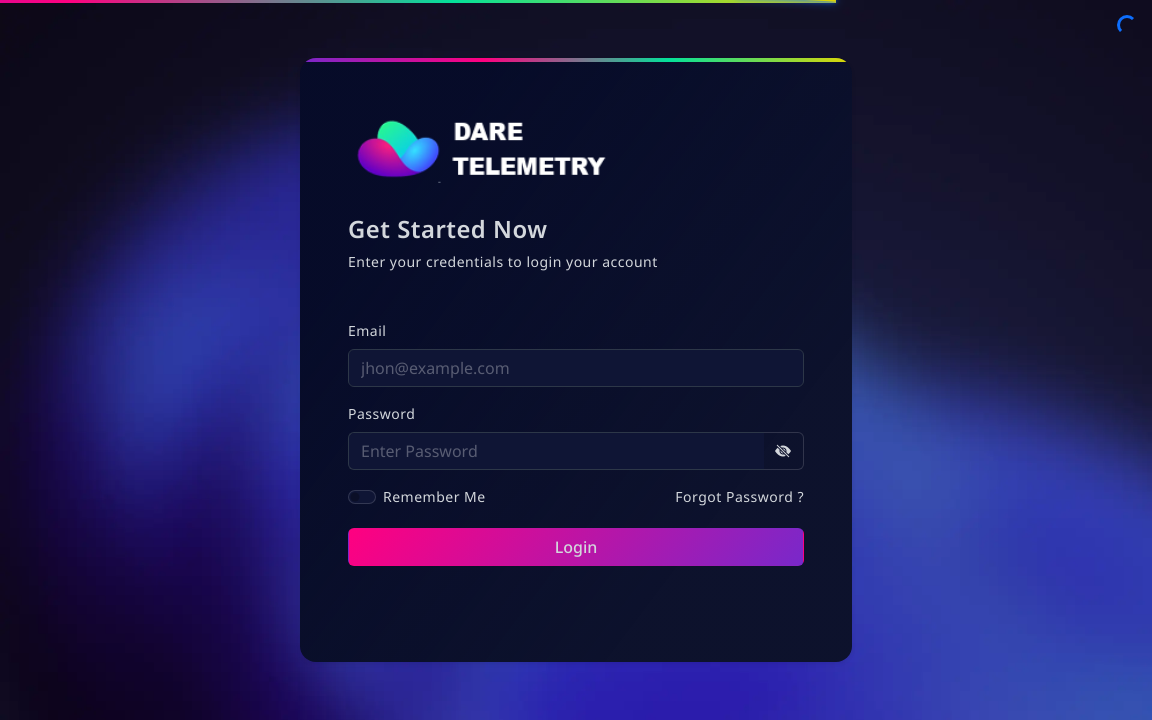
Authentication Components › BasicLogin › shows validation error for empty email
What coordinates should you click on to do the following:
click the button "Login"
I would click on:
 (576, 547)
Its box is [348,528,804,566].
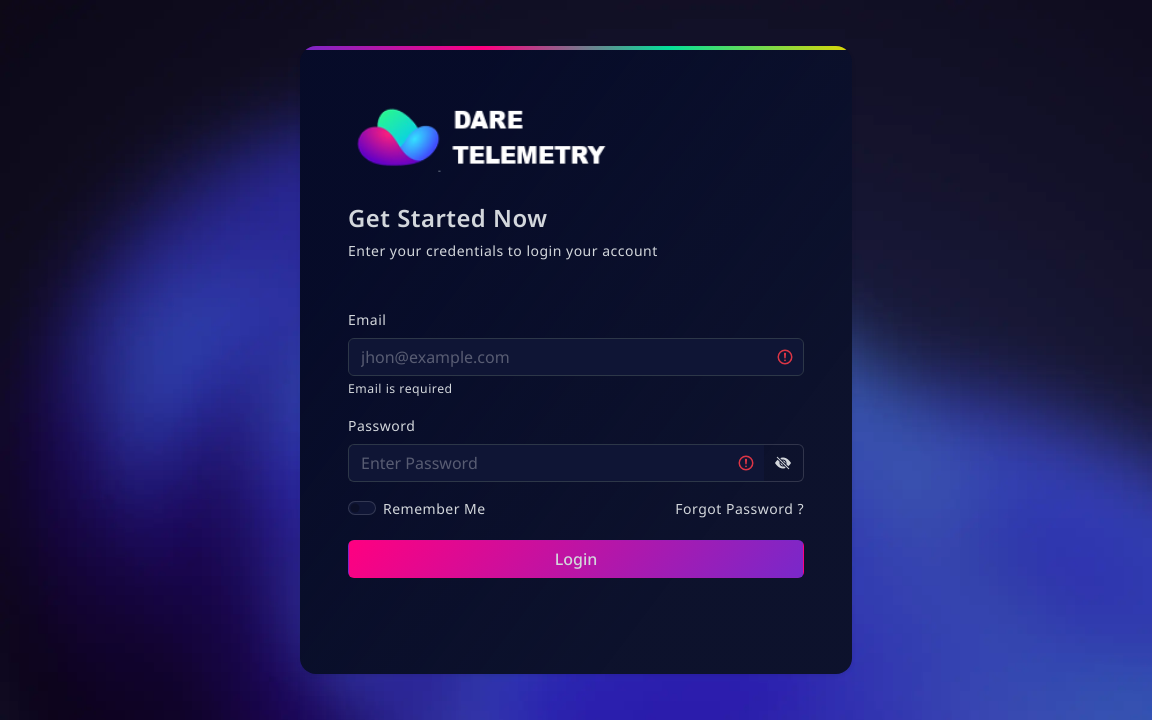
Check: the text "Email is required" is shown, box [348,380,453,397]
